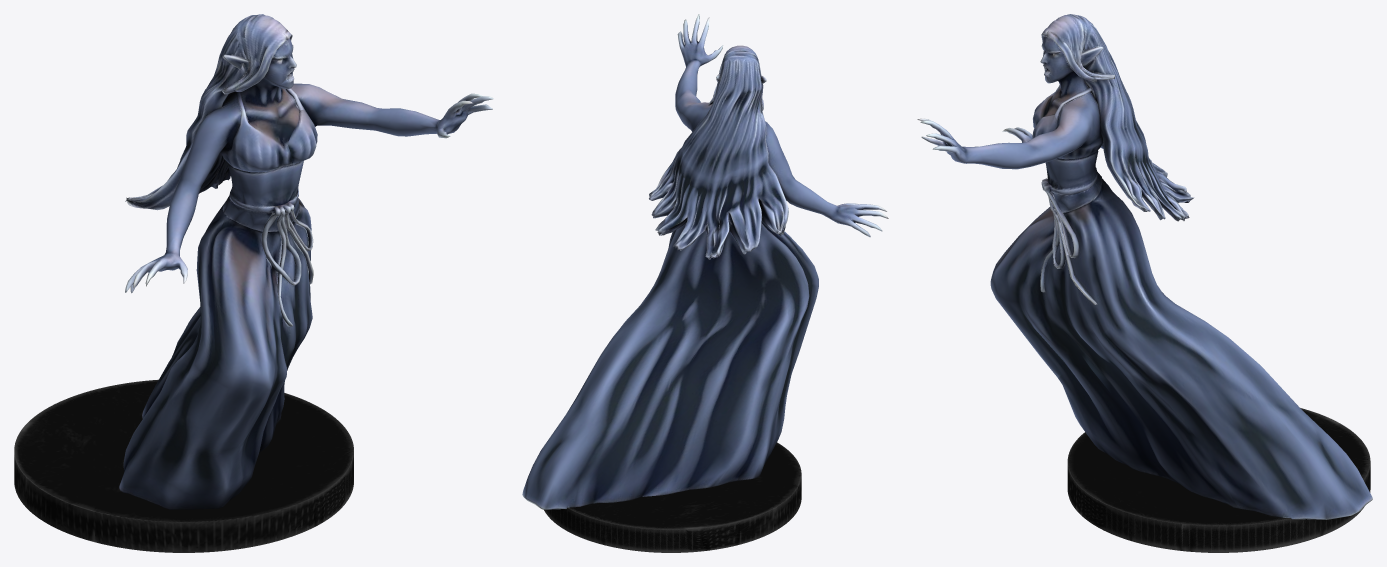
Rendered from MZ4250 - Banshee.glb.
3 renders of one model, left to right at view 1: azimuth 30°, elevation 25°; view 2: azimuth 150°, elevation 25°; view 3: azimuth 270°, elevation 25°, orthographic. The views are drawn at different scales.
Visible parts, largest first — view 1: body_low.001, base_low.001; view 2: body_low.001, base_low.001; view 3: body_low.001, base_low.001.
Part boxes in pixels (x1,y1,x2,y2): body_low.001: (119, 14, 493, 509); base_low.001: (14, 379, 353, 552); body_low.001: (522, 14, 888, 509); base_low.001: (544, 442, 801, 552); body_low.001: (917, 14, 1372, 519); base_low.001: (1067, 408, 1370, 552).
Size of the model in its own units: 3.92 by 6.25 by 5.5.
Materials: 1 (1 with a texture image).
